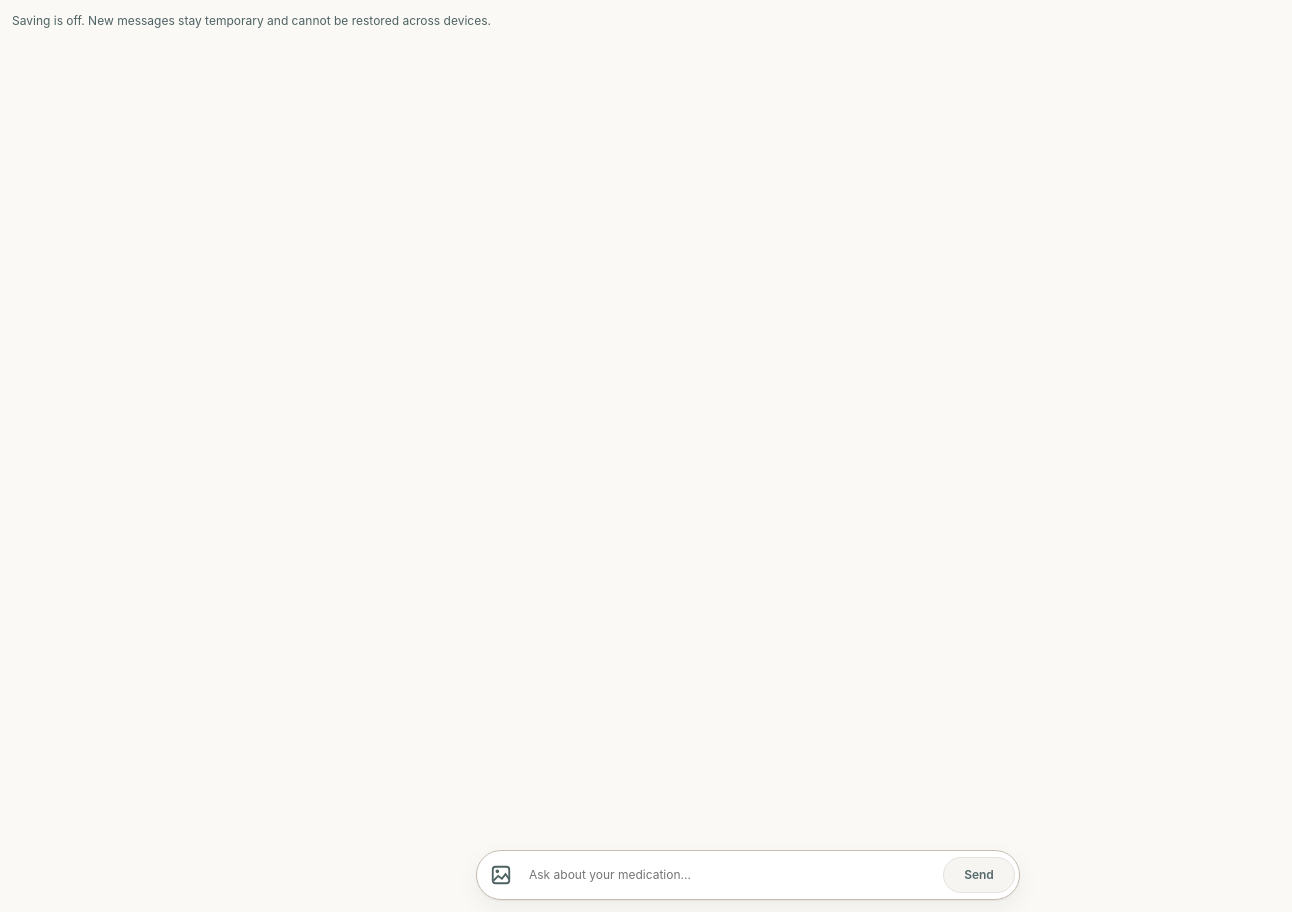
Scenario: labels records-only medication education by its actual action without claiming an AI outage
Step 1. Type "Nifedipine LA有什么作用" into the field named "Review your message before sending" → (732, 875), box [525,855,939,895]
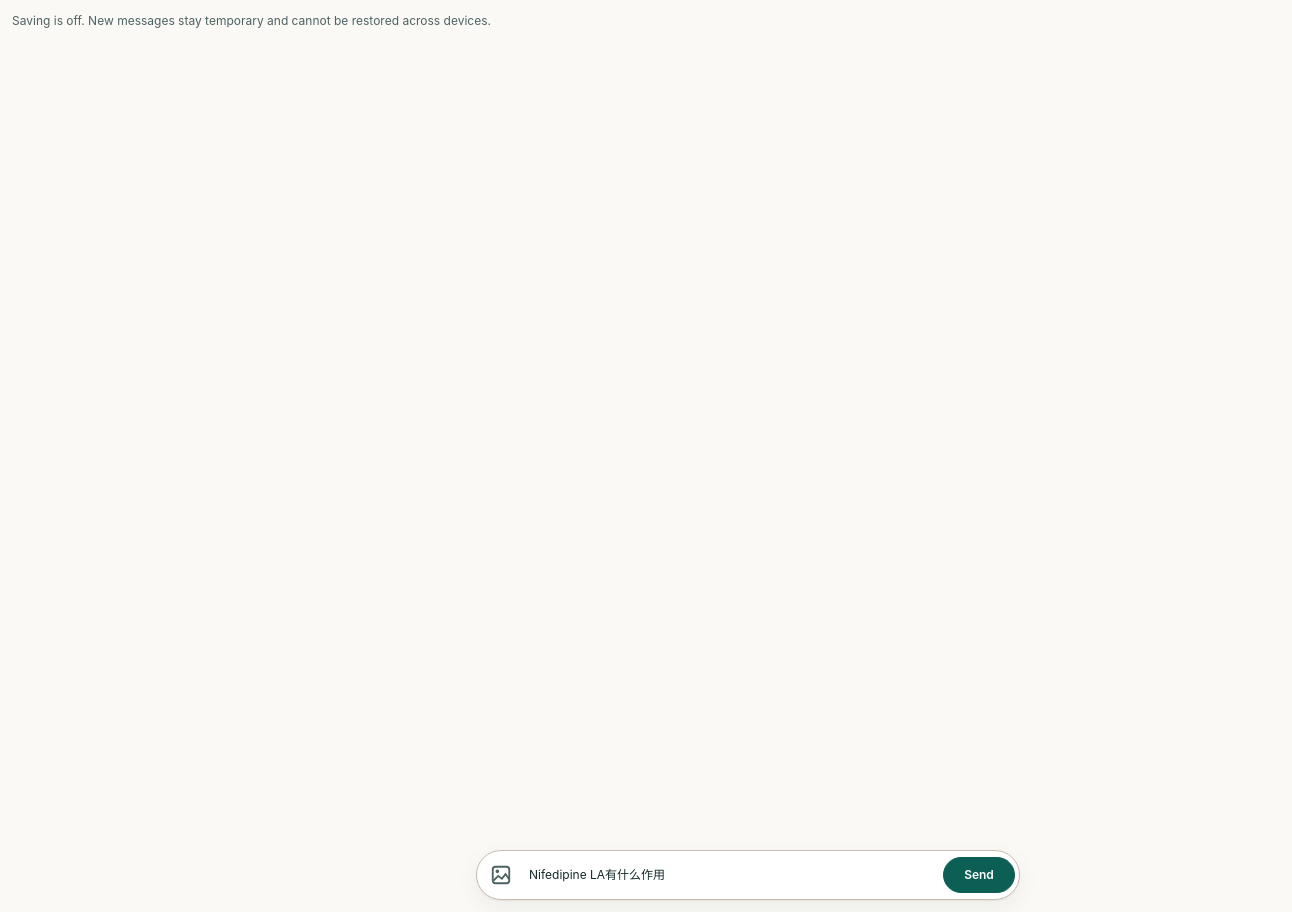
Step 2. Click the button "Send" → click(979, 875), box [943,857,1015,893]
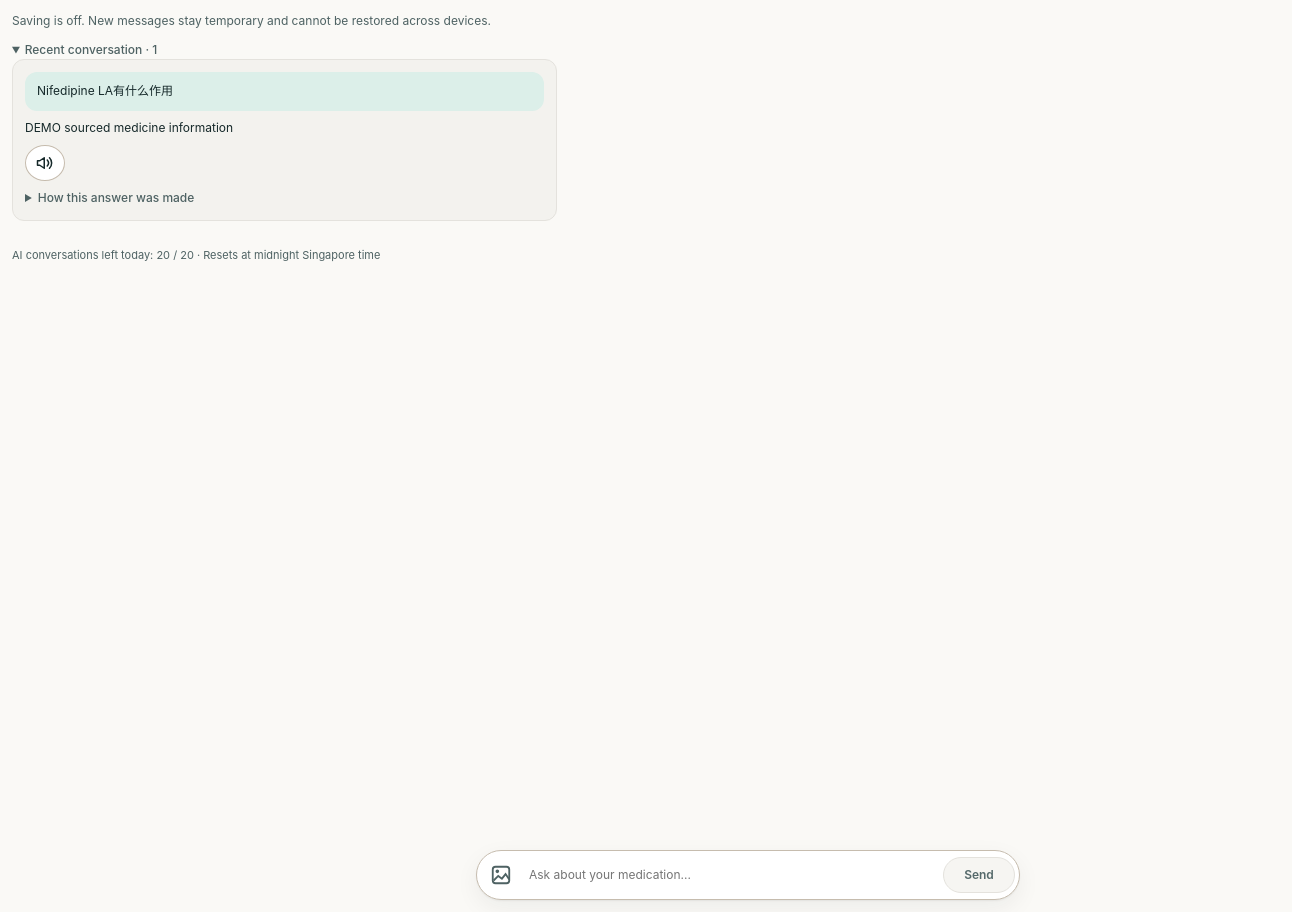
Check: the text "DEMO sourced medicine information" is shown, box [25,120,233,135]
